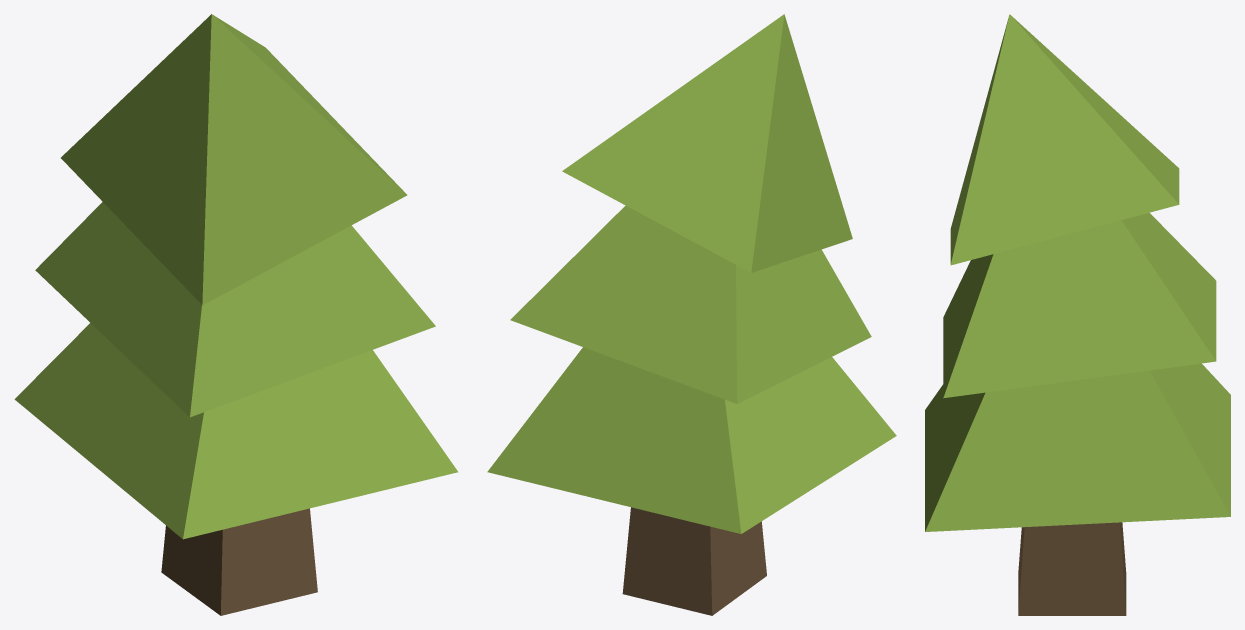
Rendered from FirTree_03.fbx.
3 views of the same model, side by side, from view 1: azimuth 30°, elevation 25°; view 2: azimuth 150°, elevation 25°; view 3: azimuth 270°, elevation 25° (orthographic). The views are drawn at different scales.
Parts seen in each view (by area): view 1: FirTree_03; view 2: FirTree_03; view 3: FirTree_03.
Part boxes in pixels (left/top/right/bottom): FirTree_03: left=14, top=14, right=458, bottom=615; FirTree_03: left=487, top=14, right=896, bottom=615; FirTree_03: left=925, top=14, right=1230, bottom=615.
Bounding box in the file's own units: 1.66 × 3.5 × 1.76.
